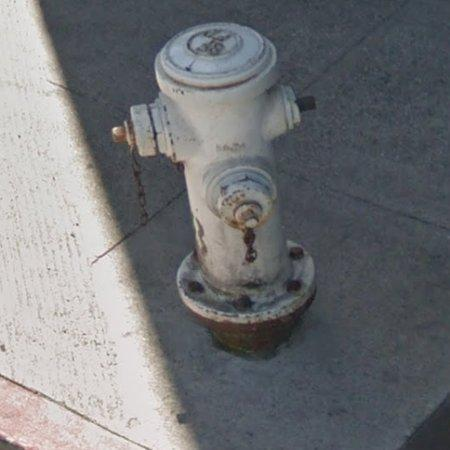a fire hydrant: (113, 23, 317, 354)
